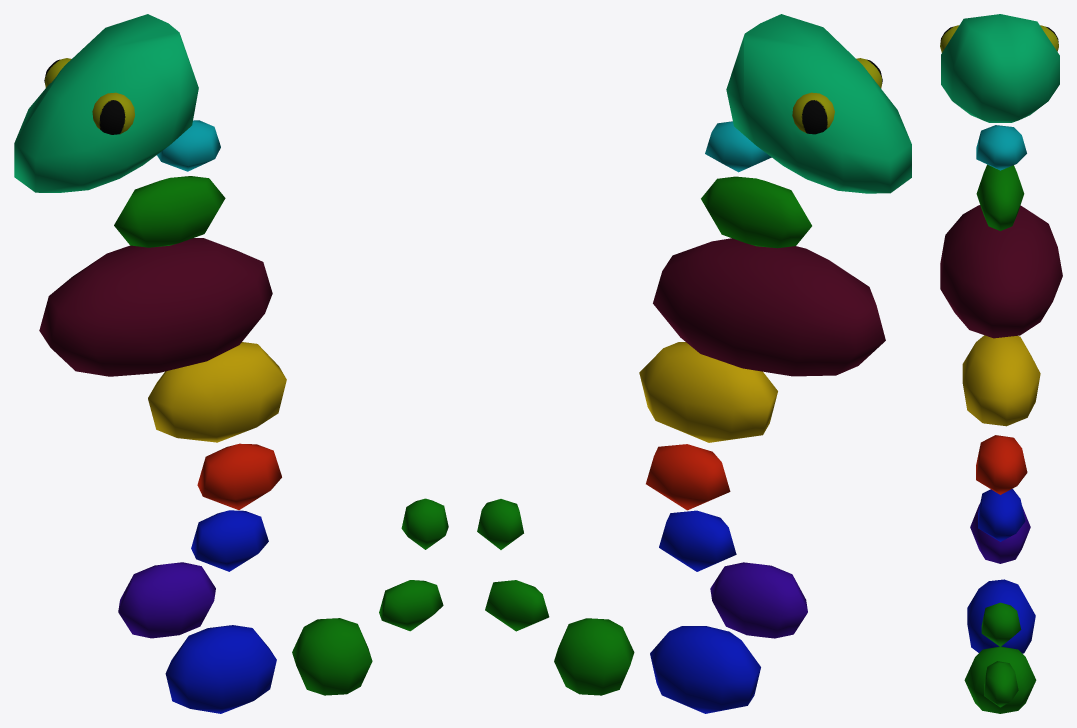
Rendered from hahmo.FBX.
3 renders of one model, left to right at view 1: azimuth 30°, elevation 25°; view 2: azimuth 150°, elevation 25°; view 3: azimuth 270°, elevation 25°, orthographic. The views are drawn at different scales.
Parts seen in each view (by area): view 1: Hahmo; view 2: Hahmo; view 3: Hahmo.
Part boxes in pixels (box(x1,y1,x2,y2)): Hahmo: box(14, 14, 448, 713); Hahmo: box(477, 14, 911, 713); Hahmo: box(940, 14, 1062, 713).
Bounding box in the file's own units: 4.94 × 7.96 × 1.45.
Materials: 9 (1 with a texture image).
